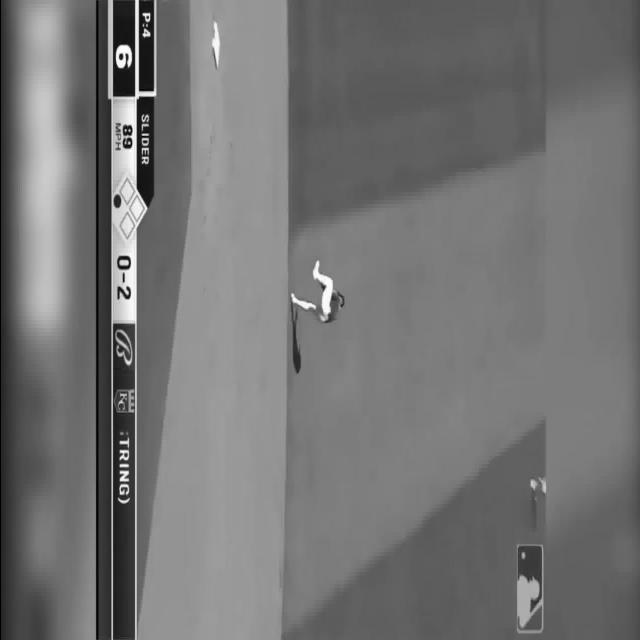base: (211, 20, 220, 69)
shoe: (311, 260, 319, 280), (290, 291, 296, 305)
